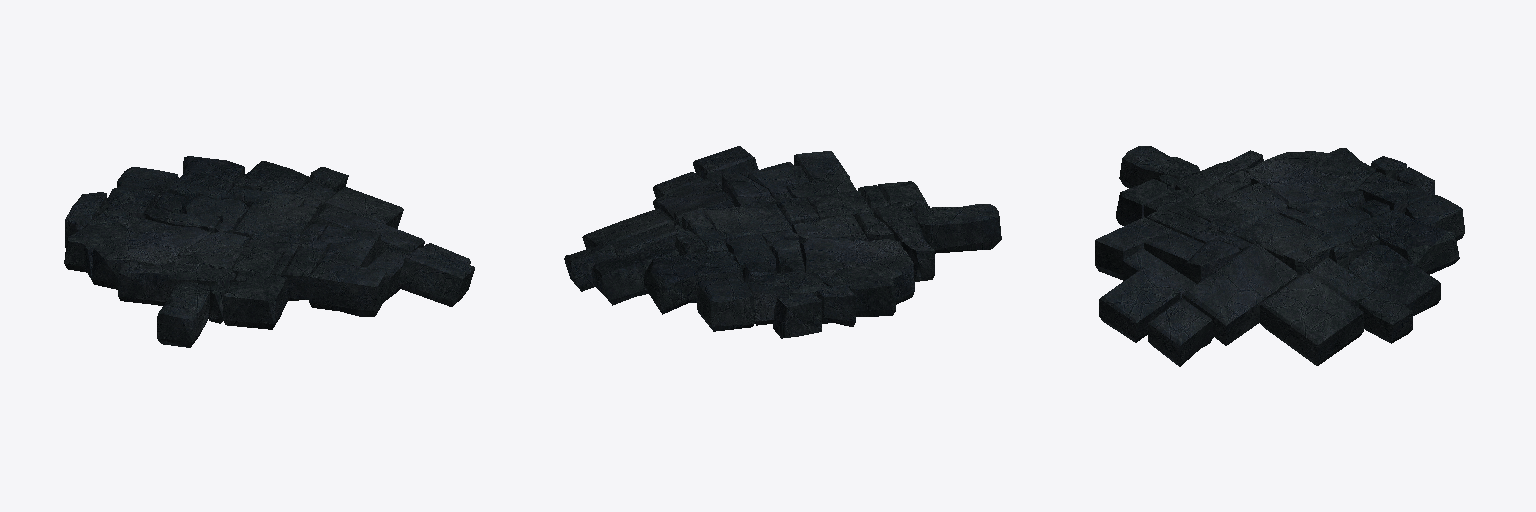
3 views of the same model, side by side, from view 1: azimuth 30°, elevation 25°; view 2: azimuth 150°, elevation 25°; view 3: azimuth 270°, elevation 25° (orthographic).
Visible parts, largest first — view 1: XelNaga_Cavern_Stone_Bricks_Crumbled_02; view 2: XelNaga_Cavern_Stone_Bricks_Crumbled_02; view 3: XelNaga_Cavern_Stone_Bricks_Crumbled_02.
Boxes of the visible parts, x1=… form: XelNaga_Cavern_Stone_Bricks_Crumbled_02: x1=64, y1=156, x2=474, y2=347; XelNaga_Cavern_Stone_Bricks_Crumbled_02: x1=564, y1=146, x2=1001, y2=338; XelNaga_Cavern_Stone_Bricks_Crumbled_02: x1=1095, y1=146, x2=1464, y2=366.
Bounding box in the file's own units: 5.37 × 1.13 × 5.17.
1 materials, 1 textured.